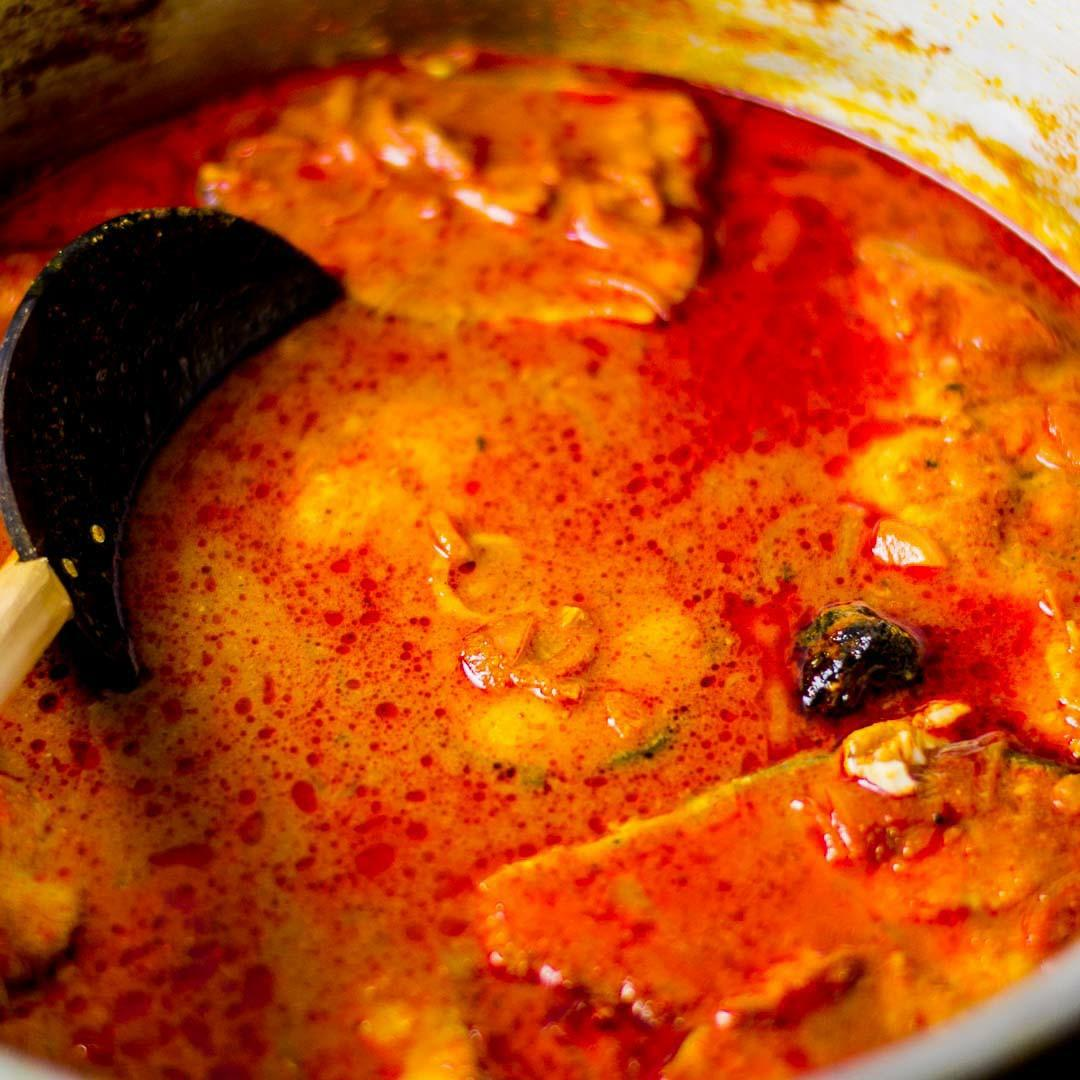FishCurry: (0, 46, 1080, 1080)
